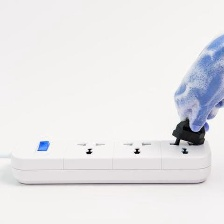three_eye_plug: (5, 132, 216, 187)
